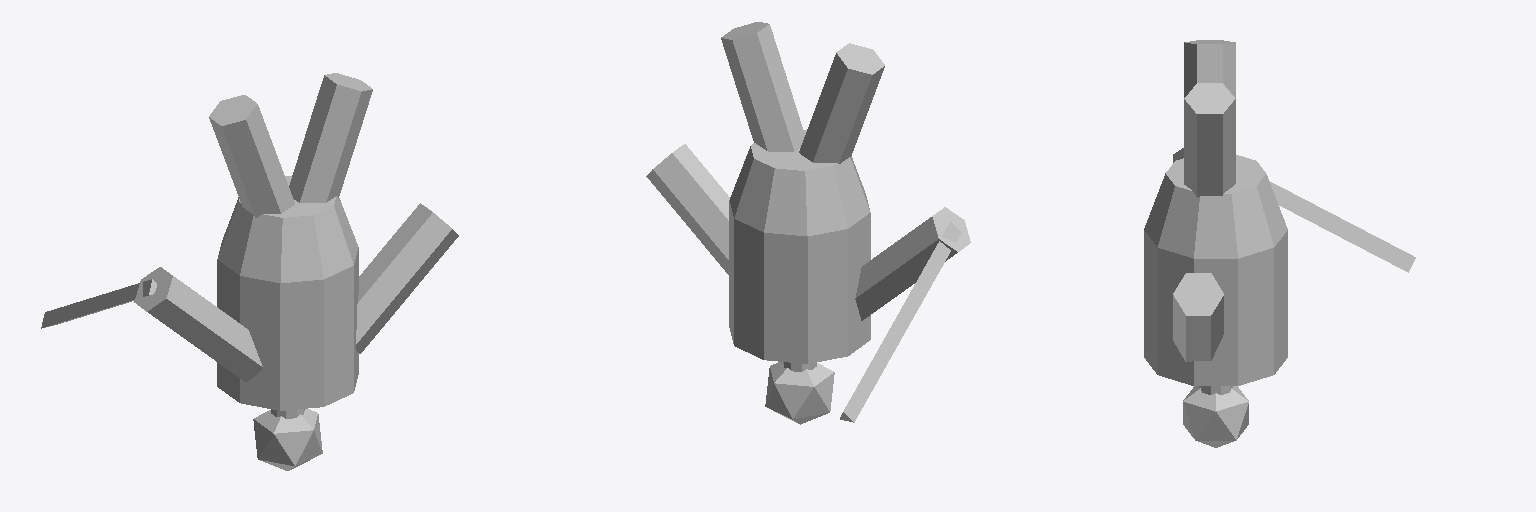
The model's file is person.obj.
3 renders of one model, left to right at view 1: azimuth 30°, elevation 25°; view 2: azimuth 150°, elevation 25°; view 3: azimuth 270°, elevation 25°, orthographic.
Parts seen in each view (by area): view 1: person_Cylinder; view 2: person_Cylinder; view 3: person_Cylinder.
Boxes of the visible parts, box(x1,y1,x2,y2) form: person_Cylinder: box(41, 73, 458, 470); person_Cylinder: box(646, 22, 970, 424); person_Cylinder: box(1144, 40, 1415, 447).
Bounding box in the file's own units: 1.44 × 1.69 × 1.09.